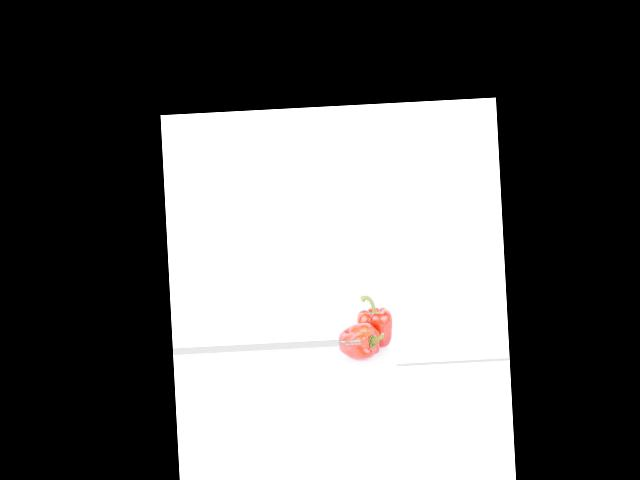bell_pepper: (332, 318, 383, 360)
